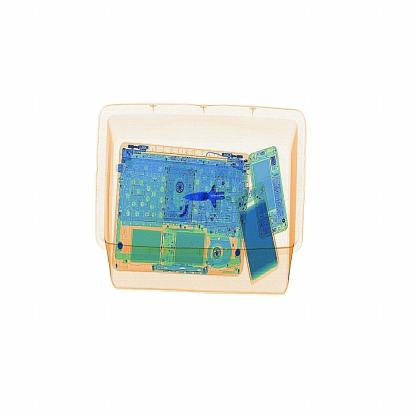gun: (170, 162, 242, 219)
